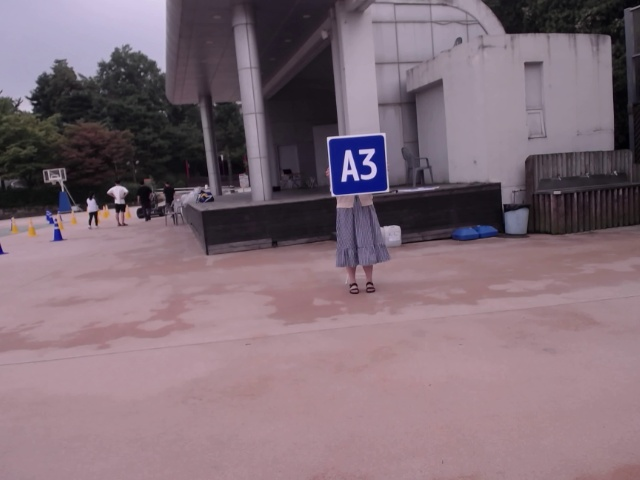delivery_a3: (328, 133, 389, 196)
